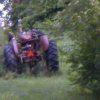Tractor: (6, 18, 70, 84)
